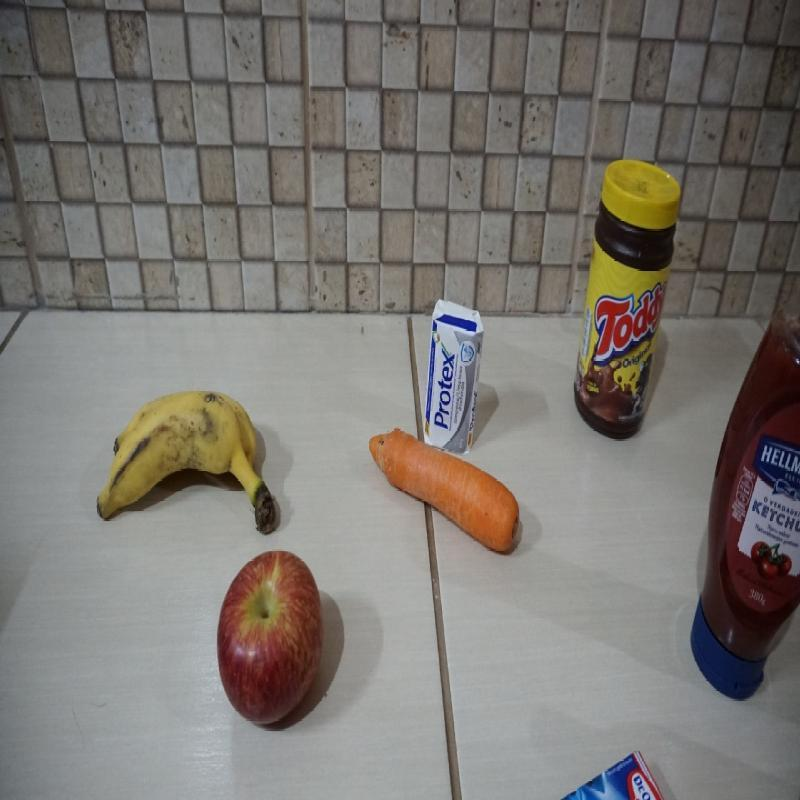Apple: (214, 543, 324, 724)
Banana: (95, 385, 280, 532)
Carrot: (366, 429, 522, 550)
Chocolate Powder: (575, 154, 680, 436)
Gelatine: (551, 741, 666, 796)
Ketchup: (690, 317, 799, 699)
Soap: (426, 297, 484, 427)
